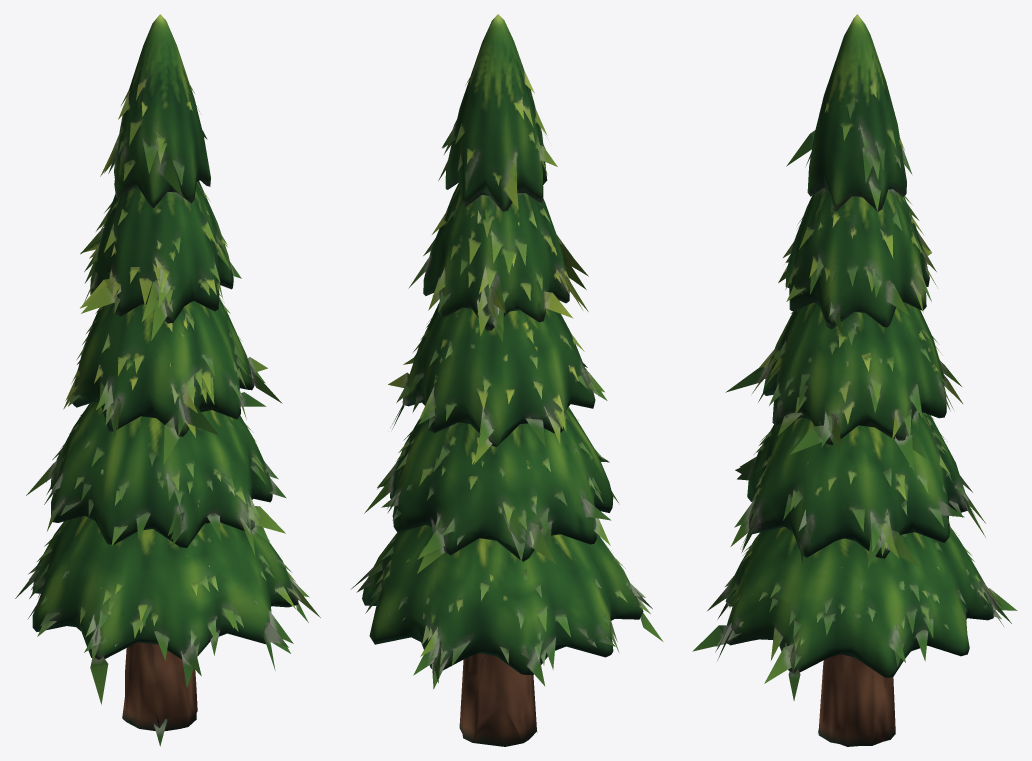
Rendered from pine_d.glb.
3 views of the same model, side by side, from view 1: azimuth 30°, elevation 25°; view 2: azimuth 150°, elevation 25°; view 3: azimuth 270°, elevation 25° (orthographic). The views are drawn at different scales.
Visible parts, largest first — view 1: pine_d; view 2: pine_d; view 3: pine_d.
Boxes of the visible parts, x1,y1,x2,y2 form: pine_d: [15, 14, 320, 746]; pine_d: [350, 14, 663, 746]; pine_d: [692, 14, 1017, 746].
Bounding box in the file's own units: 1.78 × 4.95 × 2.
Materials: 1 (1 with a texture image).
